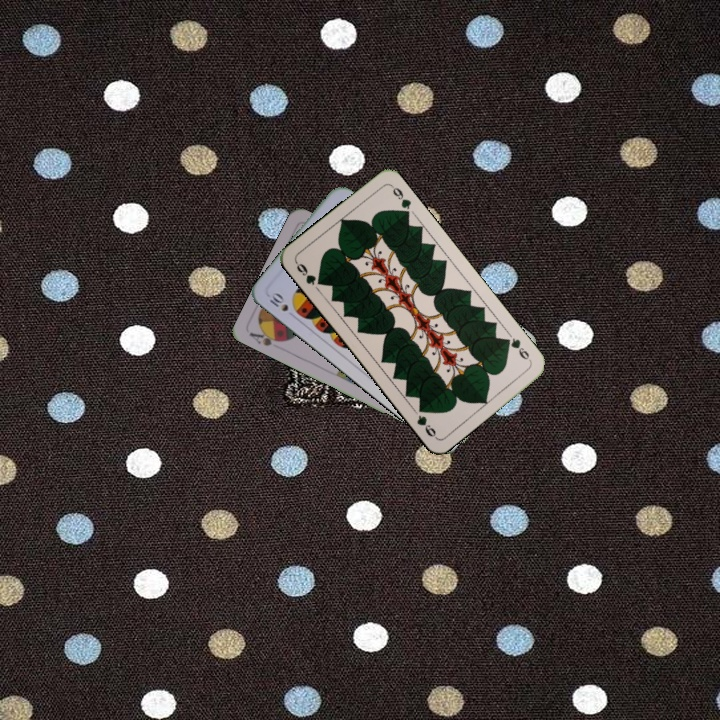G9: (291, 258, 326, 288), (500, 334, 534, 364)
S10: (264, 288, 298, 321)
SA: (246, 325, 287, 348)
